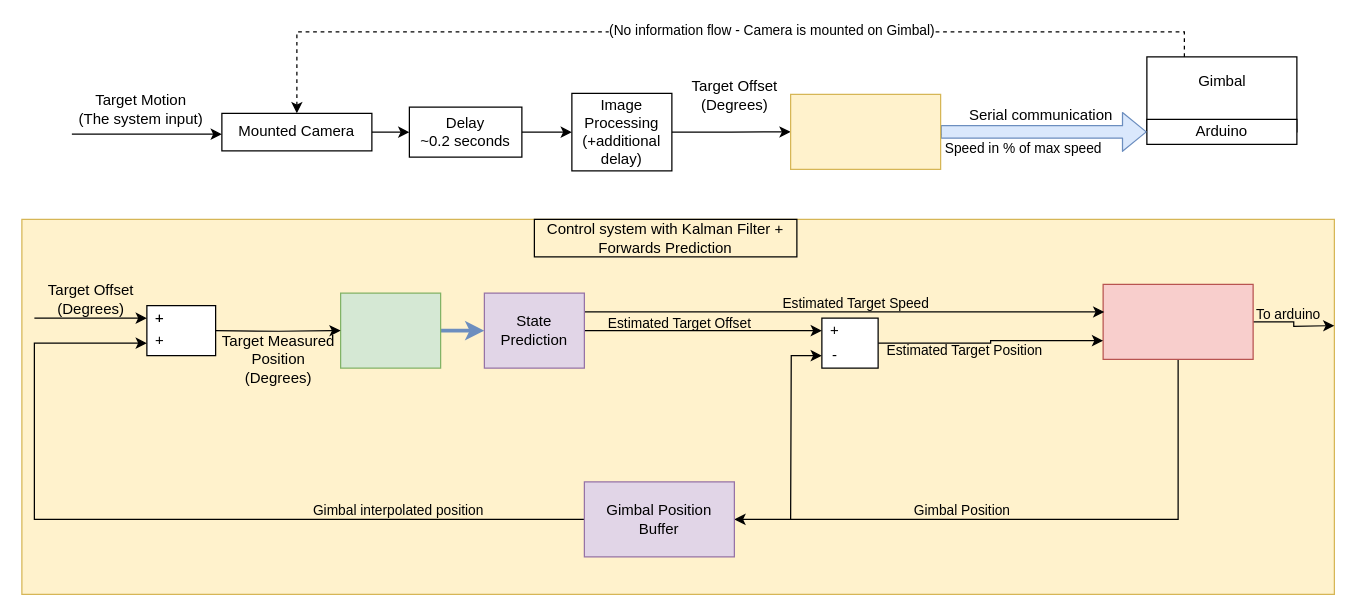
The diagram is 1366 pixels wide and 616 high, and some of its shapes have lost their labels. The centre of each missing label's shape, as x and y in pixels:
Control System: pixel 865 131
Controller: pixel 1177 321
Kalman Filter: pixel 390 330
